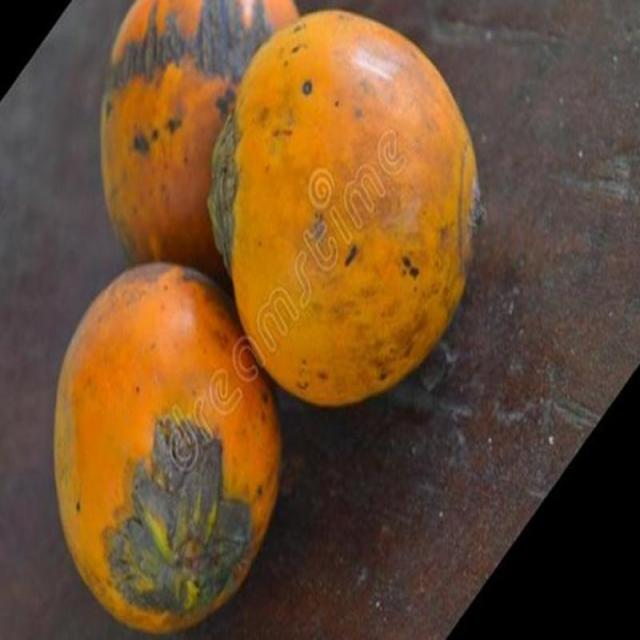good: (208, 11, 480, 410), (53, 262, 284, 638), (101, 0, 298, 292)
